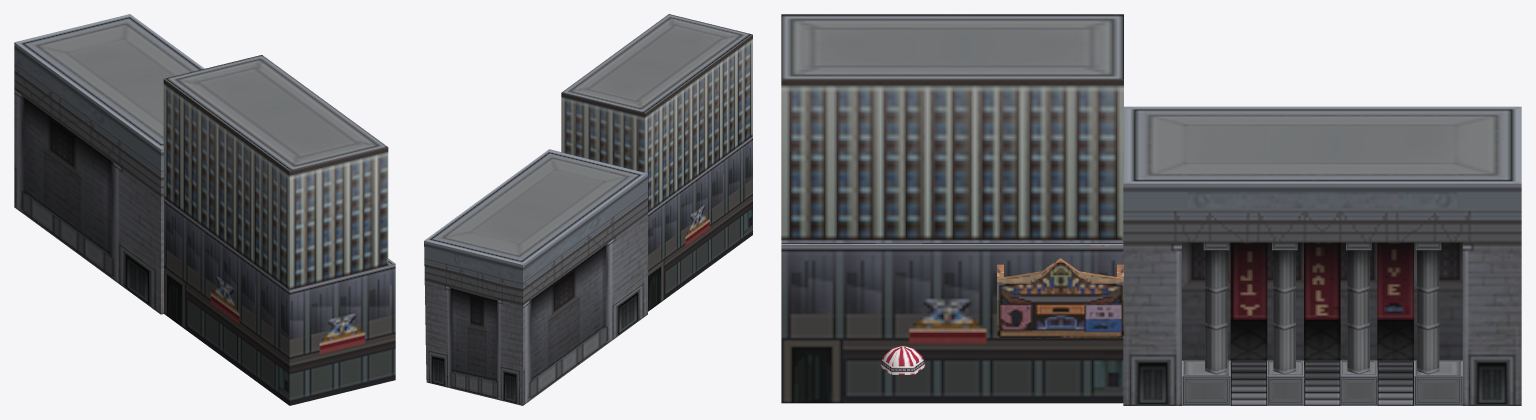
File: EntertainmentMile01.fbx
3 views of the same model, side by side, from view 1: azimuth 30°, elevation 25°; view 2: azimuth 150°, elevation 25°; view 3: azimuth 270°, elevation 25° (orthographic). The views are drawn at different scales.
Parts seen in each view (by area): view 1: EntertainmentMile01a; view 2: EntertainmentMile01a; view 3: EntertainmentMile01a.
Part boxes in pixels (bbox=[...]): EntertainmentMile01a: bbox=[14, 14, 395, 405]; EntertainmentMile01a: bbox=[424, 14, 752, 405]; EntertainmentMile01a: bbox=[781, 14, 1521, 405].
Size of the model in its own units: 3.9 by 6.92 by 14.55.
